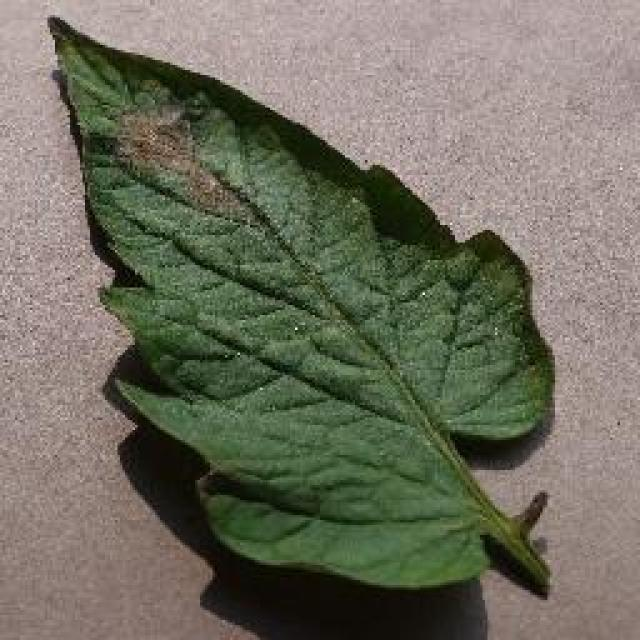Tomato Late Blight: (38, 12, 265, 258)
